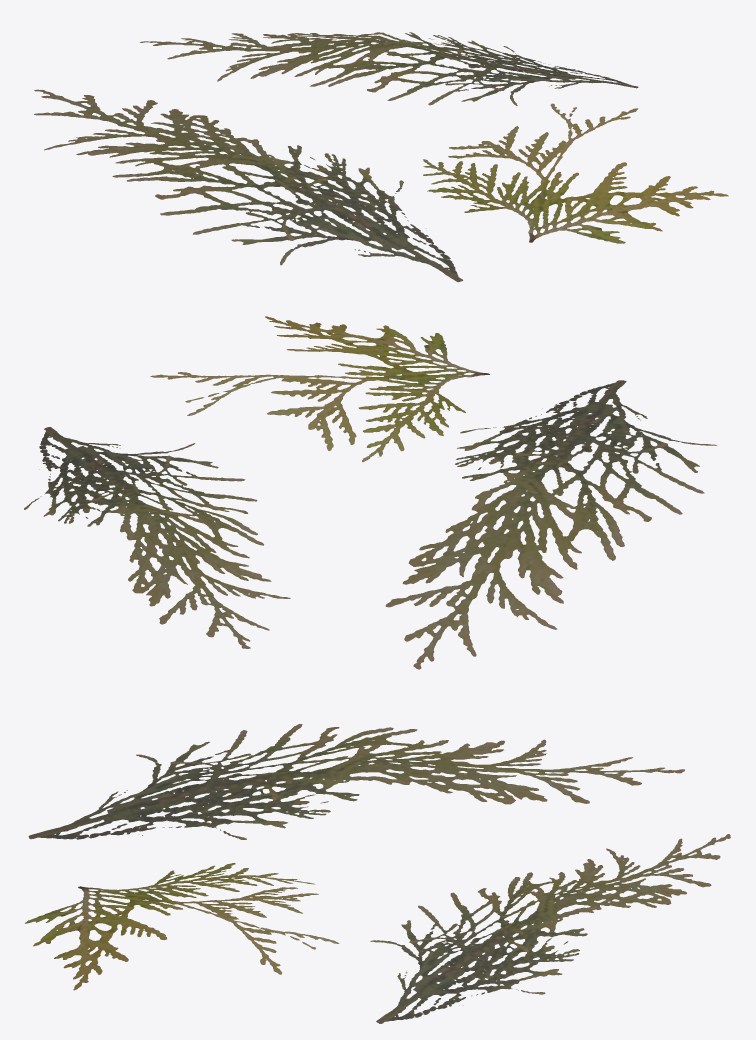
File: Leaf4.fbx
The picture shows the model from 3 angles, top to bottom: view 1: azimuth 30°, elevation 25°; view 2: azimuth 150°, elevation 25°; view 3: azimuth 270°, elevation 25°; orthographic projection. The views are drawn at different scales.
Parts seen in each view (by area): view 1: SM_cmn_mount_Leaf_02a; view 2: SM_cmn_mount_Leaf_02a; view 3: SM_cmn_mount_Leaf_02a.
Part boxes in pixels (bbox=[...]): SM_cmn_mount_Leaf_02a: bbox=[34, 32, 728, 282]; SM_cmn_mount_Leaf_02a: bbox=[24, 316, 716, 669]; SM_cmn_mount_Leaf_02a: bbox=[25, 724, 730, 1023].
Bounding box in the file's own units: 40.76 × 3.16 × 44.13.
